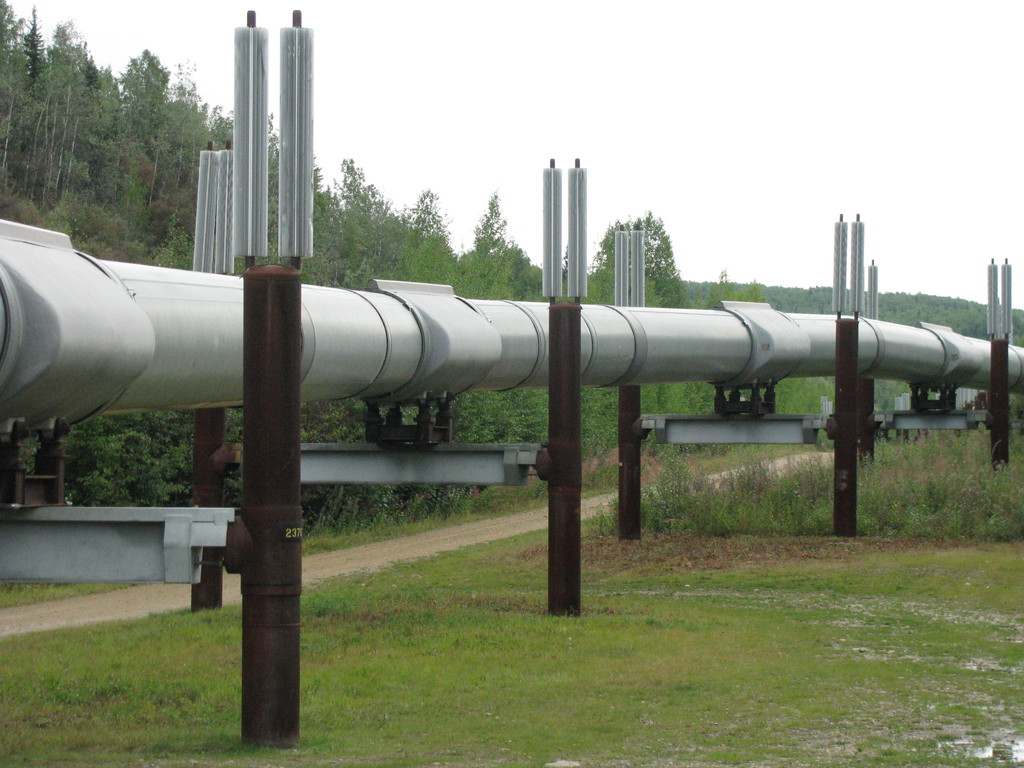Tree: (0, 0, 1021, 504)
